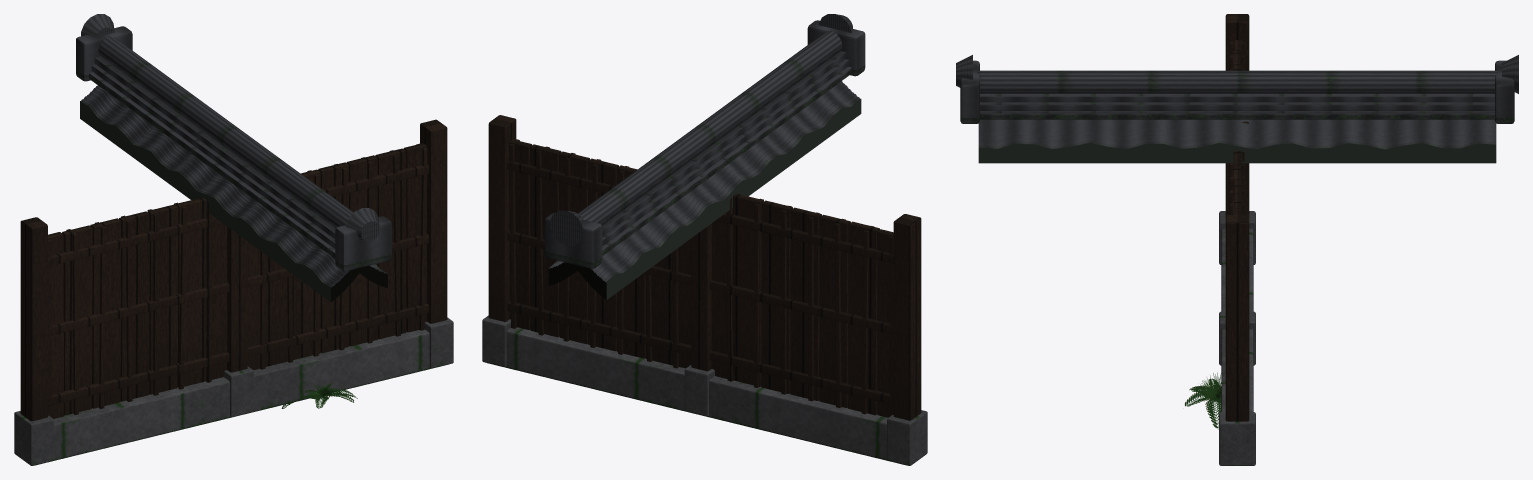
Rendered from WoodenFence_Segment.fbx.
3 renders of one model, left to right at view 1: azimuth 30°, elevation 25°; view 2: azimuth 150°, elevation 25°; view 3: azimuth 270°, elevation 25°, orthographic. The views are drawn at different scales.
Parts seen in each view (by area): view 1: WoodenFence_Segment; view 2: WoodenFence_Segment; view 3: WoodenFence_Segment.
Boxes of the visible parts, x1,y1,x2,y2 form: WoodenFence_Segment: [14, 14, 453, 465]; WoodenFence_Segment: [482, 14, 927, 465]; WoodenFence_Segment: [956, 14, 1518, 465].
Bounding box in the file's own units: 3.56 × 2.49 × 3.98.
